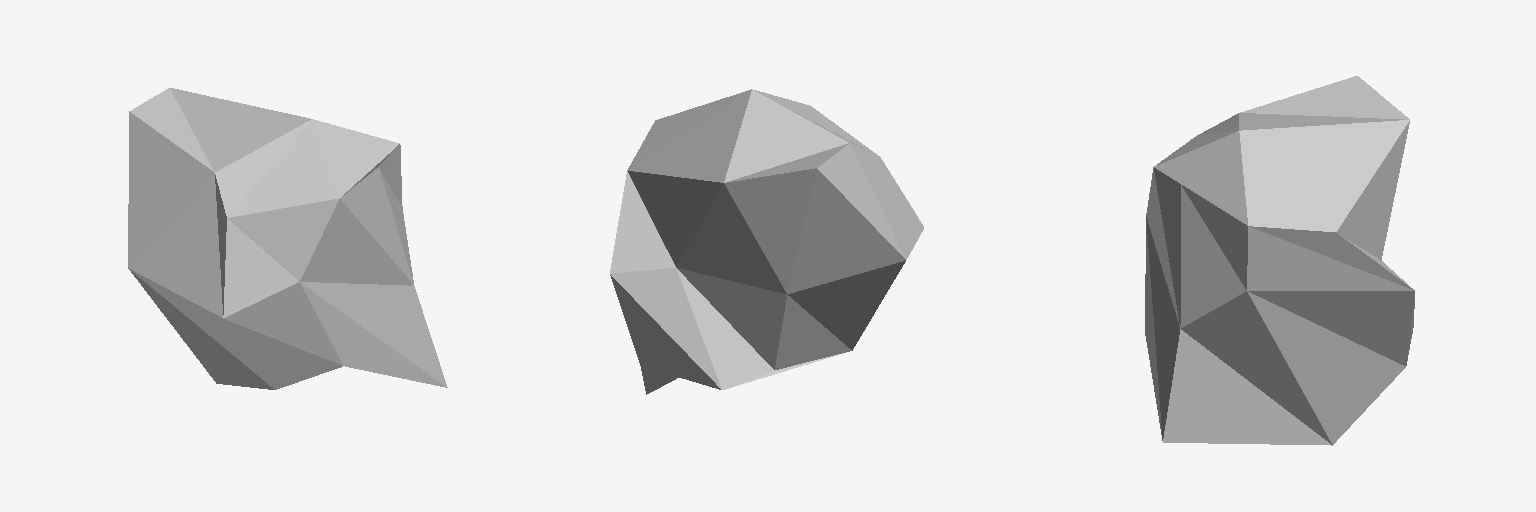
File: blender.obj
The picture shows the model from 3 angles: view 1: azimuth 30°, elevation 25°; view 2: azimuth 150°, elevation 25°; view 3: azimuth 270°, elevation 25°; orthographic projection.
Visible parts, largest first — view 1: Cube; view 2: Cube; view 3: Cube.
Boxes of the visible parts, box(x1,y1,x2,y2) form: Cube: box(128, 88, 447, 389); Cube: box(610, 89, 923, 394); Cube: box(1145, 76, 1414, 445).
Bounding box in the file's own units: 3.26 × 3.34 × 2.86.